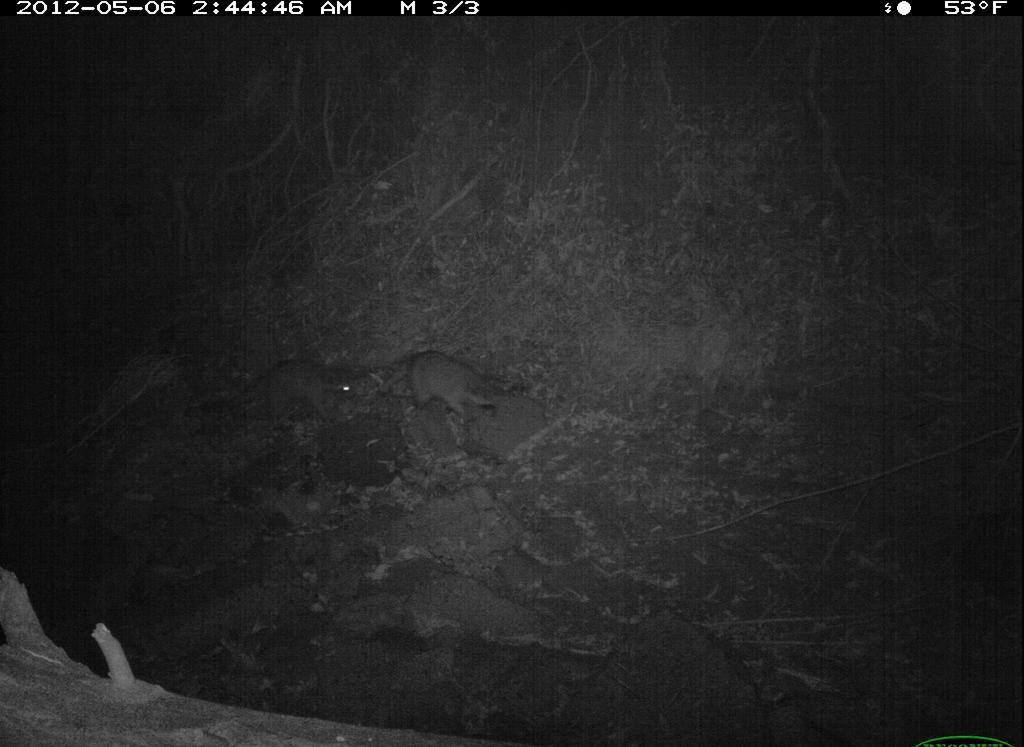raccoon: (381, 338, 530, 438), (236, 347, 373, 434)
